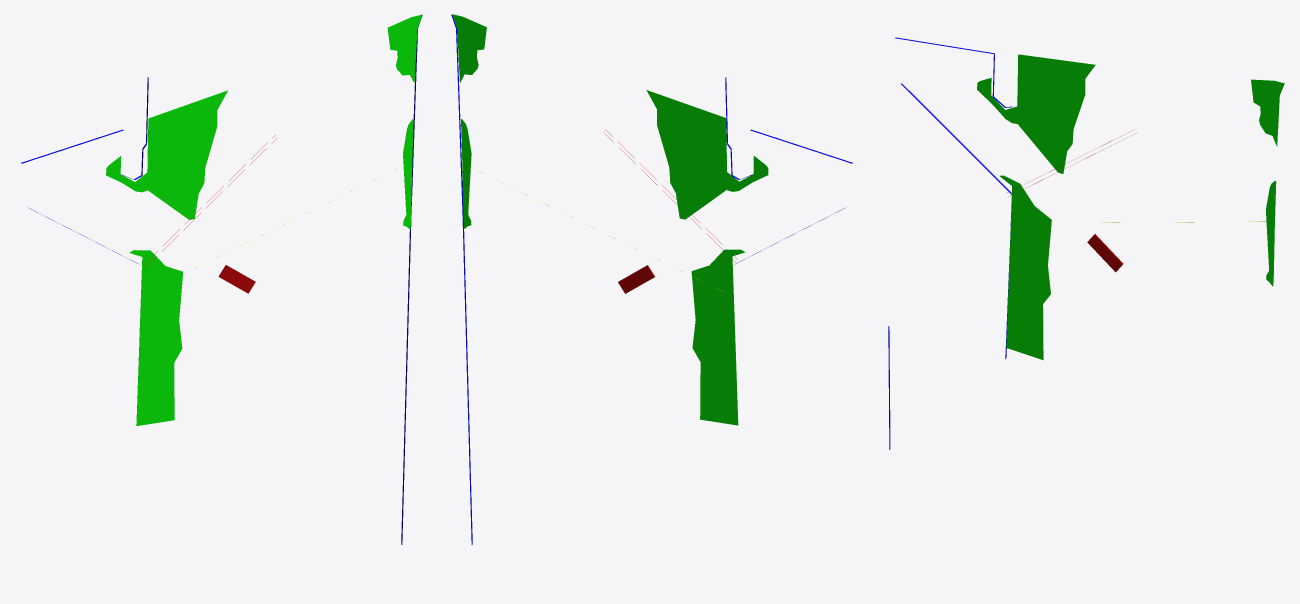
The model's file is otoshima.glb.
The picture shows the model from 3 angles, left to right: view 1: azimuth 30°, elevation 25°; view 2: azimuth 150°, elevation 25°; view 3: azimuth 330°, elevation 25°; orthographic projection. The views are drawn at different scales.
Parts seen in each view (by area): view 1: 3D ソリッド_node_3, 3D ソリッド_node_2, 3D ソリッド_node_5, EXTRUDEDSURFACE_node_0, 3D ソリッド_node_4; view 2: 3D ソリッド_node_3, 3D ソリッド_node_2, 3D ソリッド_node_5, EXTRUDEDSURFACE_node_0, 3D ソリッド_node_4; view 3: 3D ソリッド_node_3, 3D ソリッド_node_2, 3D ソリッド_node_5, 3D ソリッド_node_4, EXTRUDEDSURFACE_node.
Boxes of the visible parts, box(x1,y1,x2,y2) form: 3D ソリッド_node_3: box(106, 90, 227, 219); 3D ソリッド_node_2: box(129, 250, 183, 425); 3D ソリッド_node_5: box(387, 14, 422, 82); EXTRUDEDSURFACE_node_0: box(401, 14, 422, 544); 3D ソリッド_node_4: box(403, 119, 413, 229); 3D ソリッド_node_3: box(646, 90, 768, 219); 3D ソリッド_node_2: box(691, 249, 745, 425); 3D ソリッド_node_5: box(452, 14, 486, 82); EXTRUDEDSURFACE_node_0: box(451, 14, 472, 544); 3D ソリッド_node_4: box(461, 119, 471, 228); 3D ソリッド_node_3: box(977, 54, 1095, 173); 3D ソリッド_node_2: box(1000, 175, 1051, 360); 3D ソリッド_node_5: box(1251, 79, 1284, 146); 3D ソリッド_node_4: box(1266, 180, 1276, 286); EXTRUDEDSURFACE_node: box(888, 83, 1011, 449).
Size of the model in its own units: 2005 by 2491 by 36.95.
